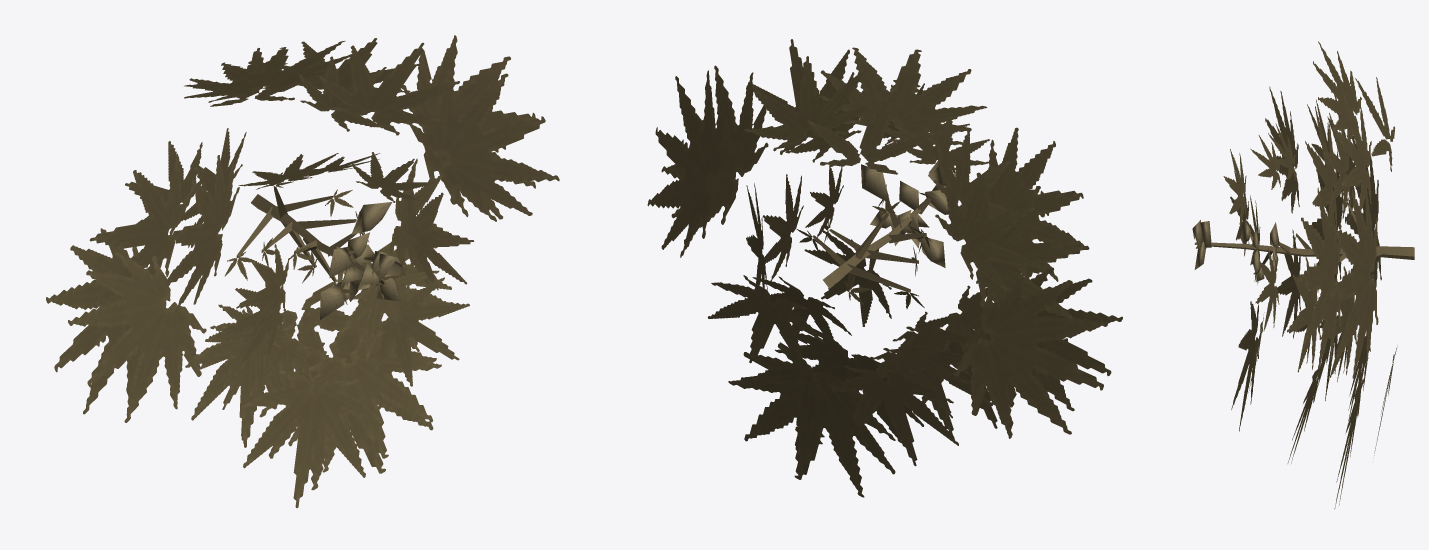
The model's file is p_male_landrace_preflower_c4_cards.obj.
The picture shows the model from 3 angles, left to right: view 1: azimuth 30°, elevation 25°; view 2: azimuth 150°, elevation 25°; view 3: azimuth 270°, elevation 25°; orthographic projection. The views are drawn at different scales.
Size of the model in its own units: 1.52 by 1.36 by 0.607.
1 material, 1 textured.
